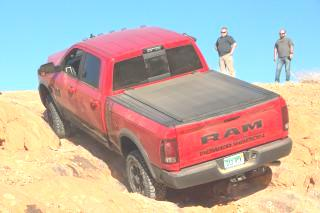ram: (191, 118, 268, 146)
